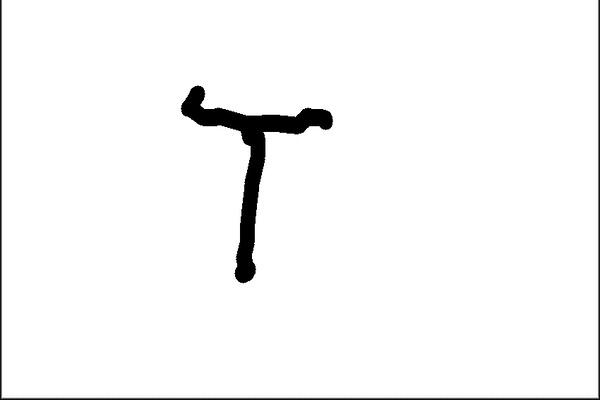T: (170, 77, 340, 290)
